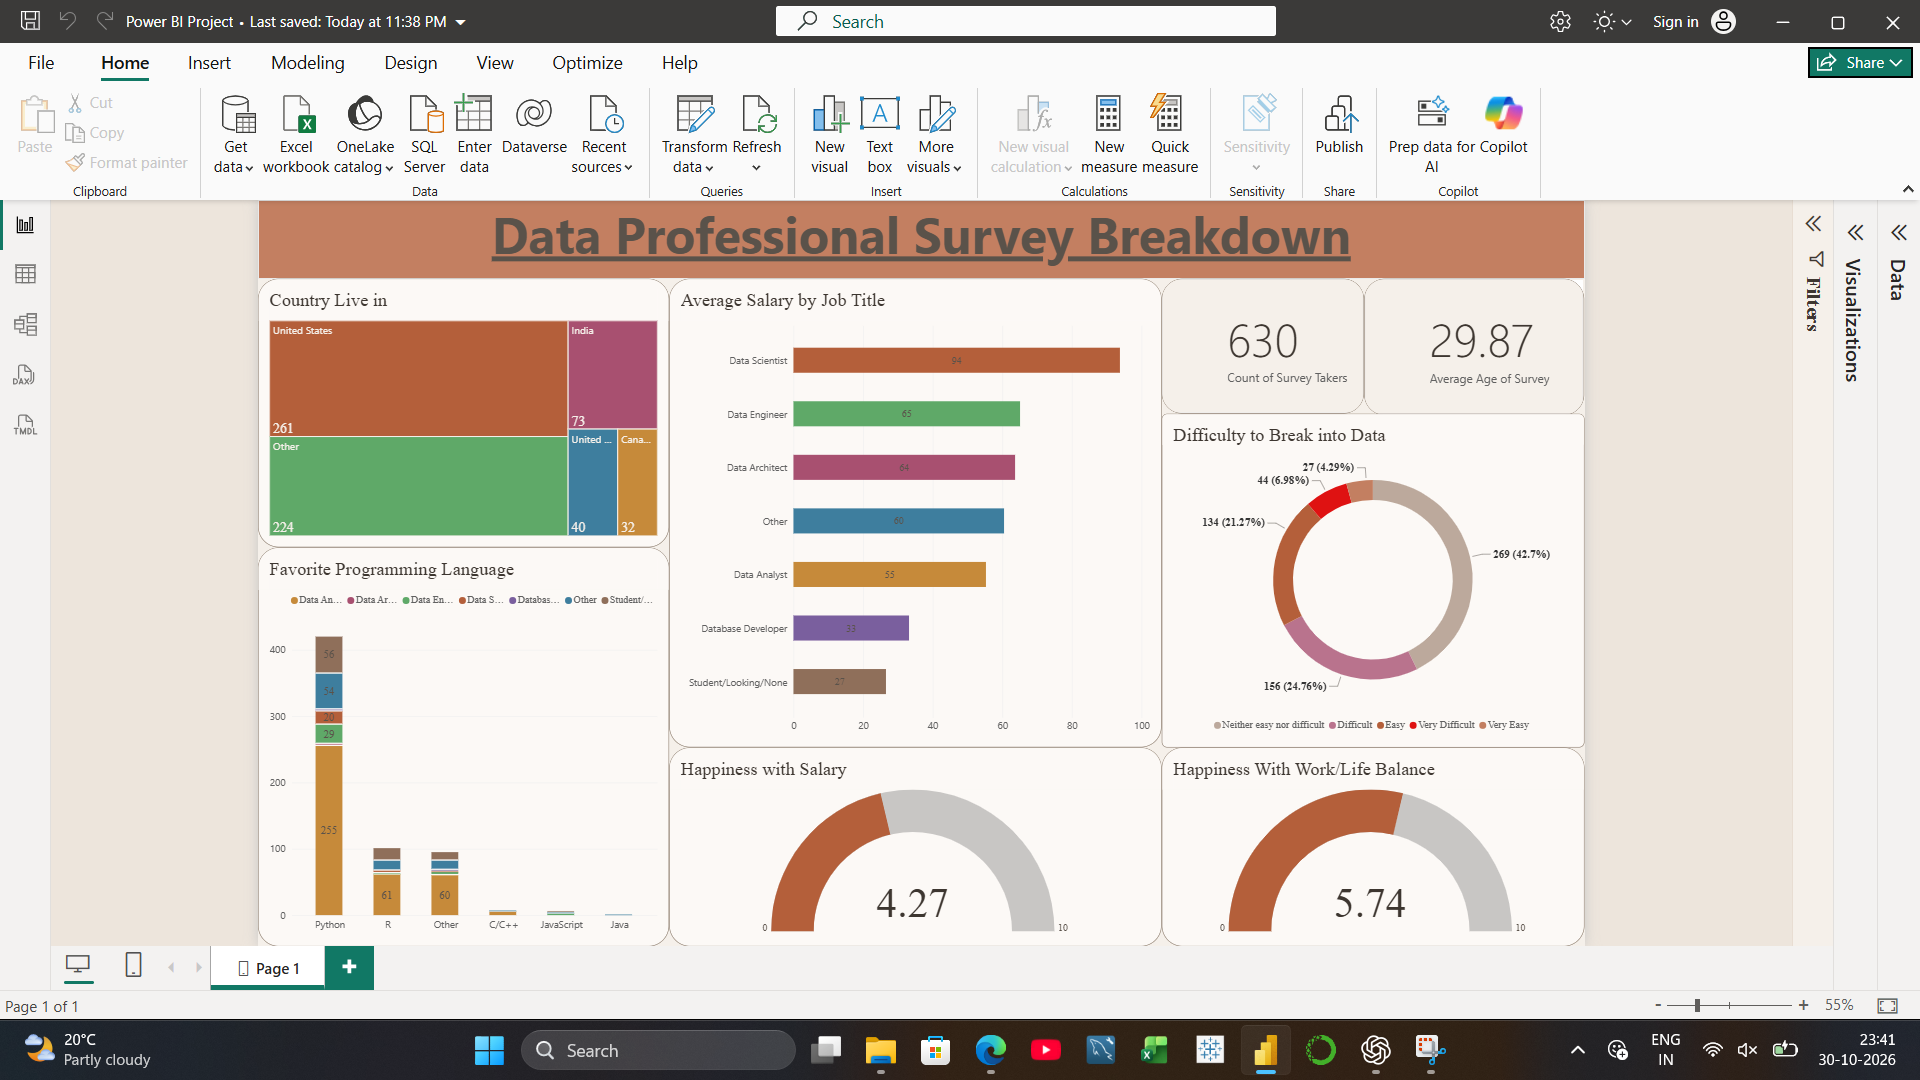

What the dashboard file says about the page in this screenshot:
{"tool":"powerbi","page":{"name":"Page 1","canvas":[1920,1080],"ordinal":0},"visuals":[{"type":"textbox","box":[0,0,1920.4,113.9],"z":0},{"type":"cardVisual","fields":{"Data":["Count(Data Professional Survey.Unique ID)"]},"box":[1308.4,114,293.2,195.4],"z":1},{"type":"cardVisual","fields":{"Data":["Avg(Data Professional Survey.Q10 - Current Age)"]},"box":[1601.5,114,318.5,197.3],"z":2},{"type":"barChart","title":"Average Salary by Job Title","fields":{"Category":["Data Professional Survey.Q1 - Which Title Best Fits your Current Role?.1"],"Series":["Data Professional Survey.Q1 - Which Title Best Fits your Current Role?.1"],"Y":["Avg(Data Professional Survey.Average Salary)"]},"box":[595.4,114,713,678.6],"z":3},{"type":"columnChart","title":"Favorite Programming Language","fields":{"Category":["Data Professional Survey.Q5 - Favorite Programming Language.1"],"Series":["Data Professional Survey.Q1 - Which Title Best Fits your Current Role?.1"],"Y":["CountNonNull(Data Professional Survey.Unique ID)"]},"box":[0,503.1,595.4,577.3],"z":4},{"type":"treemap","title":"Country Live in","fields":{"Group":["Data Professional Survey.Q11 - Which Country do you live in?.1"],"Values":["CountNonNull(Data Professional Survey.Q11 - Which Country do you live in?.1)"]},"box":[0,114,595.4,389.1],"z":5},{"type":"gauge","title":"Happiness With Work/Life Balance","fields":{"MaxValue":["Max(Data Professional Survey.Q6 - How Happy are you in your Current Position with the following? (Work/Life Balance))2"],"MinValue":["Min(Data Professional Survey.Q6 - How Happy are you in your Current Position with the following? (Work/Life Balance))1"],"Y":["Avg(Data Professional Survey.Q6 - How Happy are you in your Current Position with the following? (Work/Life Balance))"]},"box":[1308.4,792.6,611.7,287.7],"z":6},{"type":"gauge","title":"Happiness with Salary ","fields":{"MaxValue":["Max(Data Professional Survey.Q6 - How Happy are you in your Current Position with the following? (Salary))"],"MinValue":["Min(Data Professional Survey.Q6 - How Happy are you in your Current Position with the following? (Salary))"],"Y":["Avg(Data Professional Survey.Q6 - How Happy are you in your Current Position with the following? (Salary))"]},"box":[595.4,792.6,713,287.7],"z":7},{"type":"donutChart","title":"Difficulty to Break into Data","fields":{"Category":["Data Professional Survey.Q7 - How difficult was it for you to break into Data?"],"Y":["CountNonNull(Data Professional Survey.Q7 - How difficult was it for you to break into Data?)"]},"box":[1308.4,309.5,611.7,483.2],"z":8}]}

Visuals, with their boxes on the page's 1920x1080 design canvas (x1, y1, x2, y2). These are canvas units, not pixel positions in the 1920x1080 screenshot, which may show the page scaled, cropped or inside an application window:
textbox: <bbox>0, 0, 1920, 114</bbox>
cardVisual - Count(Data Professional Survey.Unique ID): <bbox>1308, 114, 1602, 309</bbox>
cardVisual - Avg(Data Professional Survey.Q10 - Current Age): <bbox>1602, 114, 1920, 311</bbox>
"Average Salary by Job Title" barChart: <bbox>595, 114, 1308, 793</bbox>
"Favorite Programming Language" columnChart: <bbox>0, 503, 595, 1080</bbox>
"Country Live in" treemap: <bbox>0, 114, 595, 503</bbox>
"Happiness With Work/Life Balance" gauge: <bbox>1308, 793, 1920, 1080</bbox>
"Happiness with Salary " gauge: <bbox>595, 793, 1308, 1080</bbox>
"Difficulty to Break into Data" donutChart: <bbox>1308, 310, 1920, 793</bbox>
